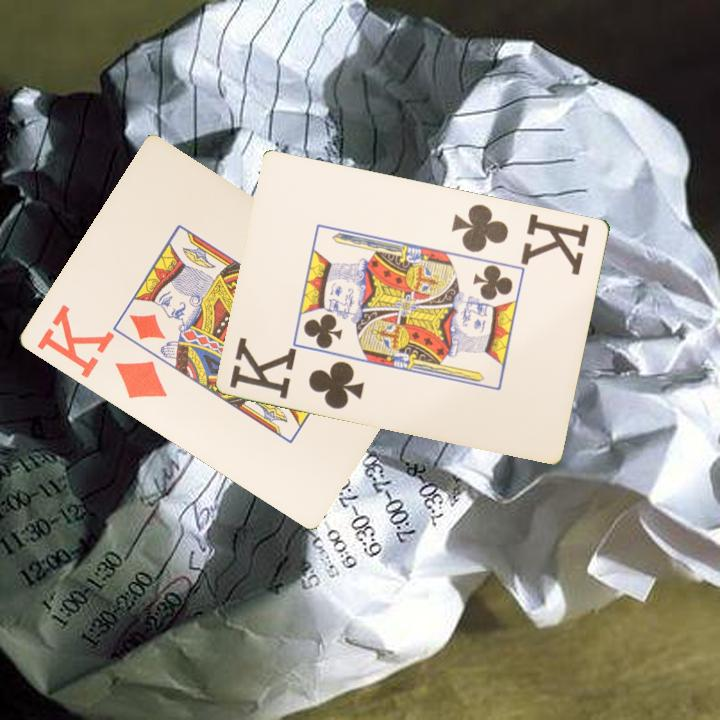Kc: (448, 200, 593, 277), (227, 335, 368, 412)
Kd: (32, 301, 170, 403)
